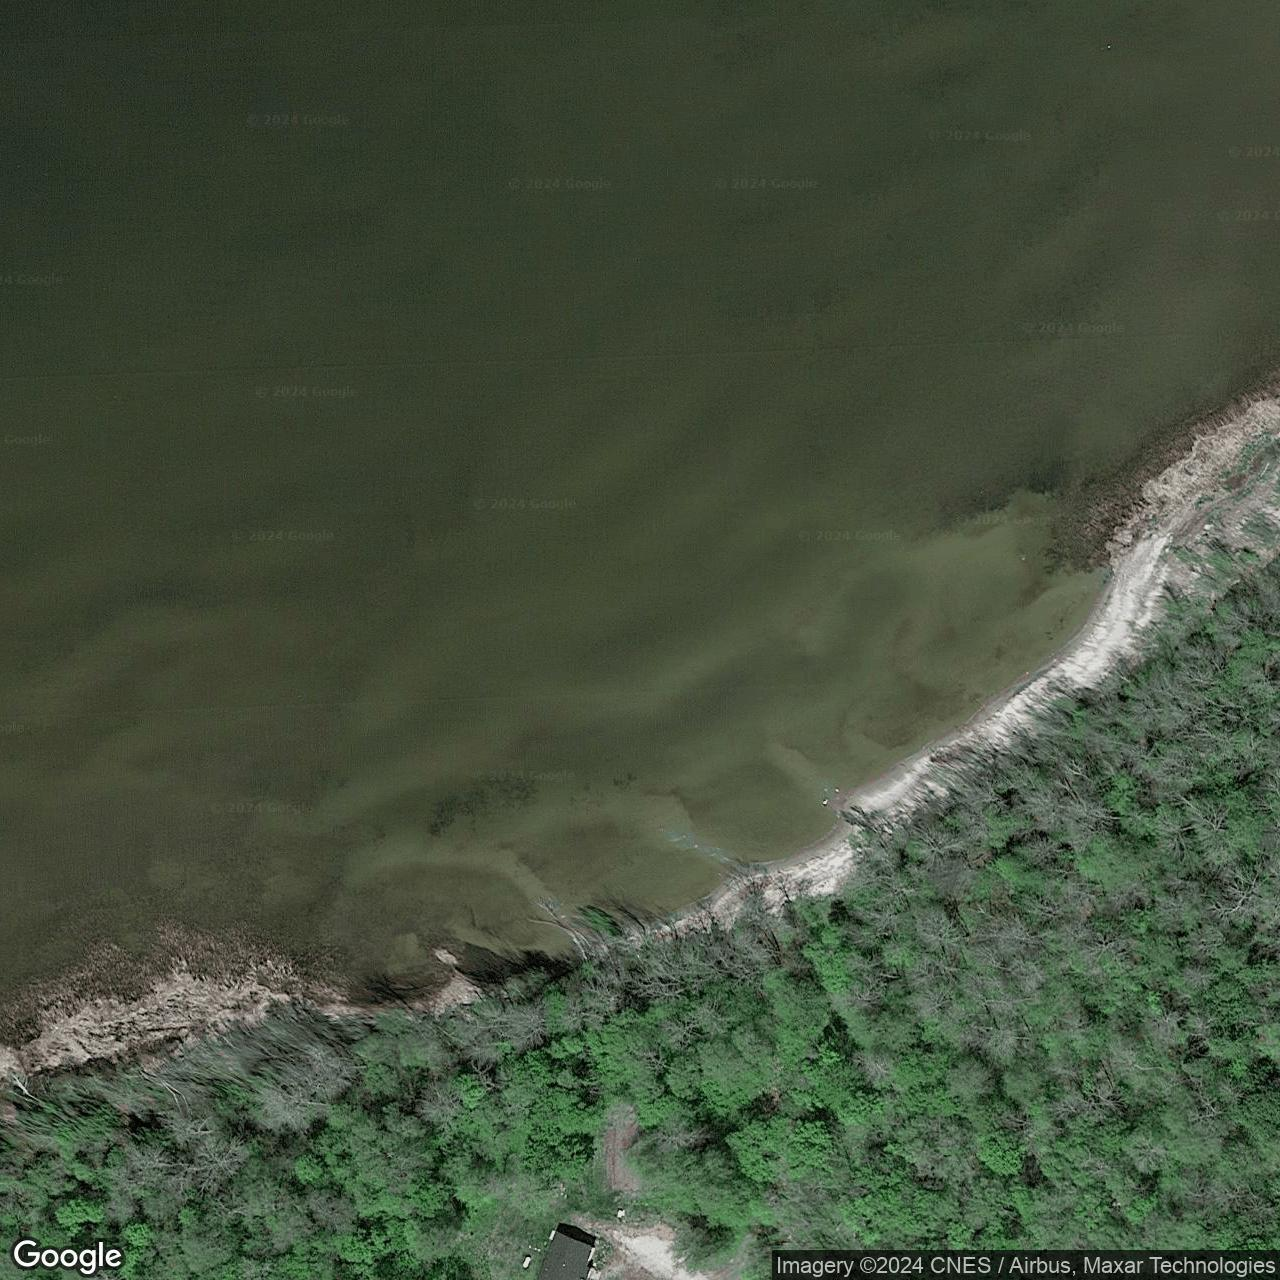House: (538, 1231, 594, 1279)
Propane: (520, 1254, 535, 1269)
